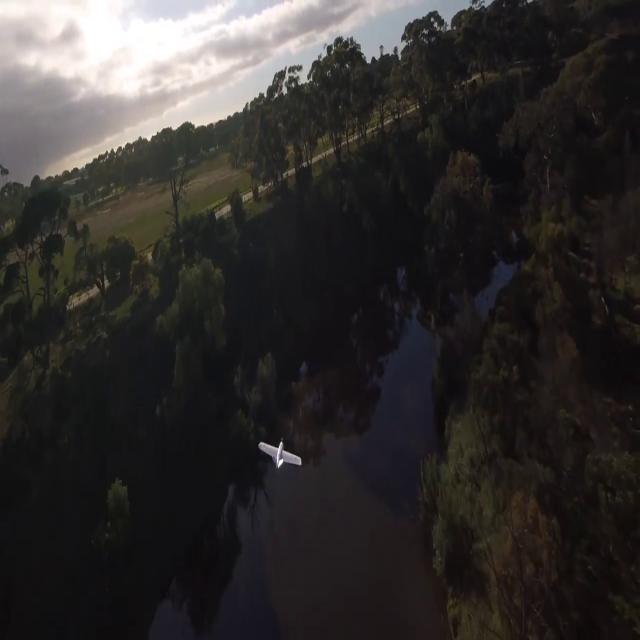iha: (259, 436, 303, 468)
